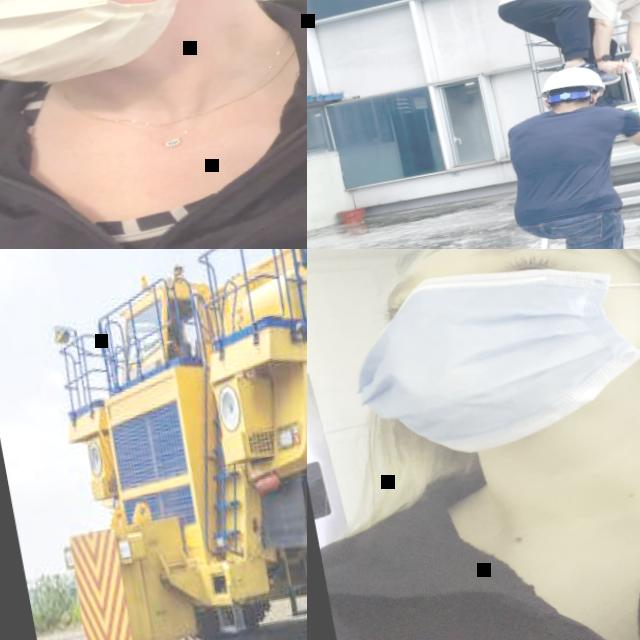Hardhat: (530, 61, 606, 102)
Mask: (342, 249, 640, 475), (0, 0, 269, 109)
NO-Hardhat: (397, 249, 640, 274)
NO-Safety Vest: (311, 396, 640, 640), (0, 0, 307, 249), (499, 96, 638, 217), (501, 0, 640, 26)
Person: (307, 249, 640, 640), (0, 0, 307, 249), (489, 51, 640, 249), (490, 0, 640, 101)
vehicle: (0, 249, 307, 640)
